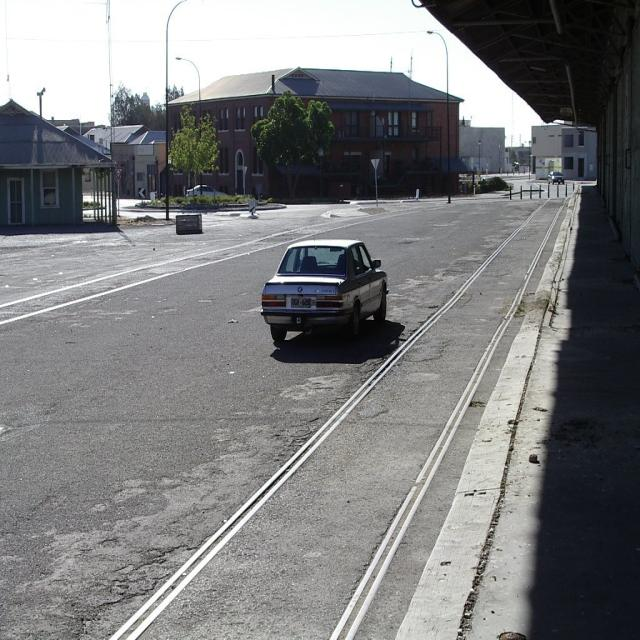car: (260, 237, 389, 340)
